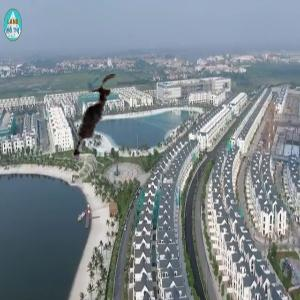drone: (38, 70, 145, 177)
